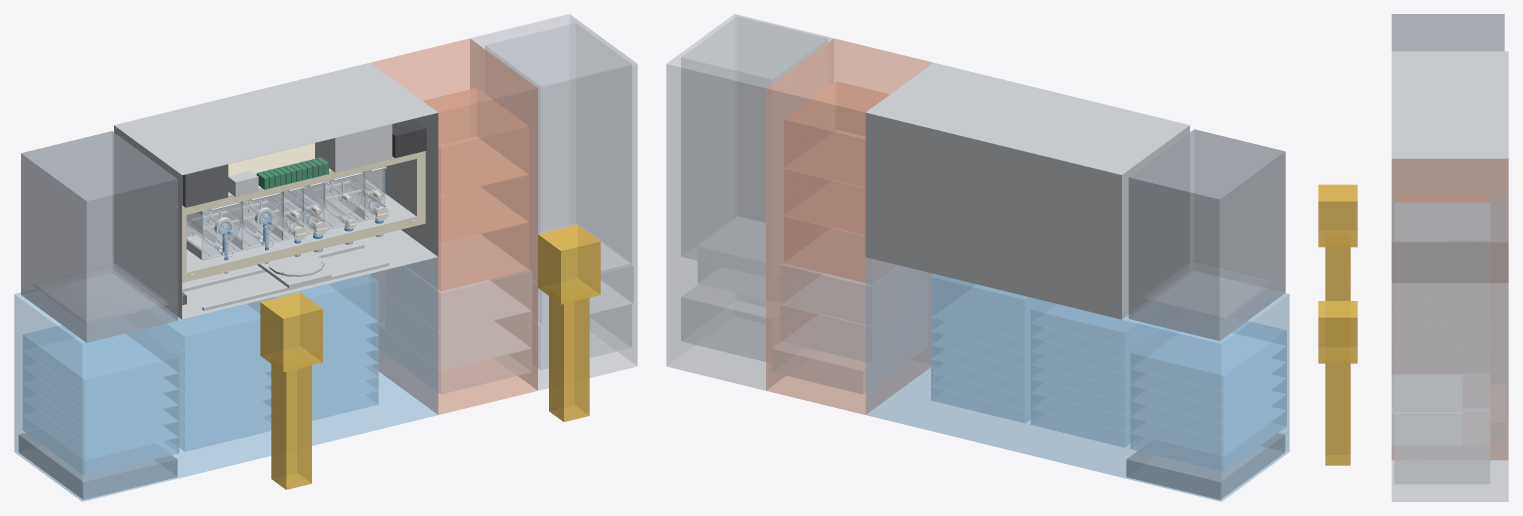
File: hat_v15.glb
The picture shows the model from 3 angles, left to right: view 1: azimuth 30°, elevation 25°; view 2: azimuth 150°, elevation 25°; view 3: azimuth 270°, elevation 25°; orthographic projection. The views are drawn at different scales.
Visible parts, largest first — view 1: B_KABIN, TOPPING_MODUL__sac, D_KABIN, E_KABIN, PRESS, E_SARJOR, FIRIN_3, CEK_K1_hamur_6, TOPPING_MODUL__pu, B_SOGUTMA, ROBOT_2, ROBOT_1 (+41 smaller); view 2: B_KABIN, TOPPING_MODUL__sac, D_KABIN, E_KABIN, PRESS, E_SARJOR, FIRIN_3, CEK_K1_hamur_6, B_SOGUTMA, E_MEK, PRESS_PLAKA, CEK_K3_icecek_1 (+25 smaller); view 3: E_KABIN, TOPPING_MODUL__sac, E_SARJOR, D_KABIN, E_MEK, PRESS, ROBOT_2, ROBOT_1_KOL, ROBOT_2_KOL, E_AGZ, ROBOT_1, FIRIN_3.
Boxes of the visible parts, x1,y1,x2,y2 form: B_KABIN: [14, 257, 438, 501]; TOPPING_MODUL__sac: [114, 62, 438, 319]; D_KABIN: [370, 38, 537, 414]; E_KABIN: [470, 14, 637, 390]; PRESS: [21, 131, 177, 342]; E_SARJOR: [485, 23, 631, 270]; FIRIN_3: [423, 88, 528, 195]; CEK_K1_hamur_6: [23, 325, 178, 395]; TOPPING_MODUL__pu: [182, 143, 425, 282]; B_SOGUTMA: [18, 429, 177, 499]; ROBOT_2: [549, 283, 589, 421]; ROBOT_1: [271, 351, 311, 489]; B_KABIN: [865, 257, 1289, 501]; TOPPING_MODUL__sac: [865, 62, 1189, 319]; D_KABIN: [766, 38, 933, 414]; E_KABIN: [666, 14, 833, 390]; PRESS: [1128, 129, 1285, 340]; E_SARJOR: [681, 16, 827, 277]; FIRIN_3: [784, 81, 889, 187]; CEK_K1_hamur_6: [1130, 321, 1286, 391]; B_SOGUTMA: [1126, 429, 1285, 499]; E_MEK: [681, 284, 765, 361]; PRESS_PLAKA: [1141, 259, 1275, 320]; CEK_K3_icecek_1: [931, 274, 1042, 339]; E_KABIN: [1391, 200, 1508, 501]; TOPPING_MODUL__sac: [1391, 51, 1508, 282]; E_SARJOR: [1394, 203, 1489, 411]; D_KABIN: [1392, 158, 1508, 459]; E_MEK: [1394, 412, 1489, 483]; PRESS: [1391, 14, 1504, 51]; ROBOT_2: [1325, 363, 1350, 465]; ROBOT_1_KOL: [1318, 184, 1357, 247]; ROBOT_2_KOL: [1318, 301, 1357, 363]; E_AGZ: [1392, 375, 1461, 444]; ROBOT_1: [1325, 234, 1350, 300]; FIRIN_3: [1397, 195, 1487, 200].
Bounding box in the file's own units: 3.9 × 2.03 × 1.35.
Materials: 90 (12 with a texture image).
